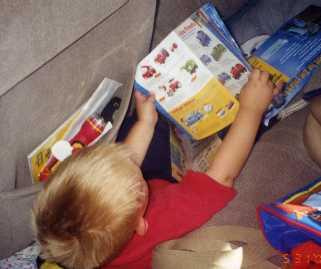person: (36, 69, 285, 269)
